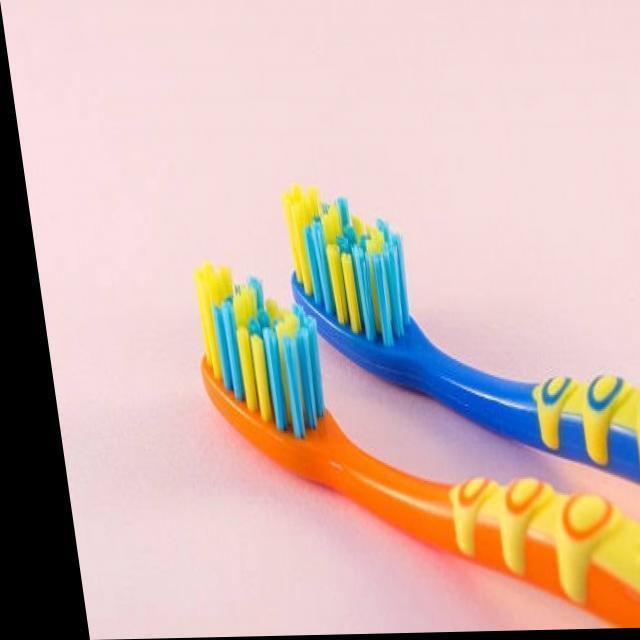toothbrush: (190, 263, 640, 627), (287, 200, 640, 492)
